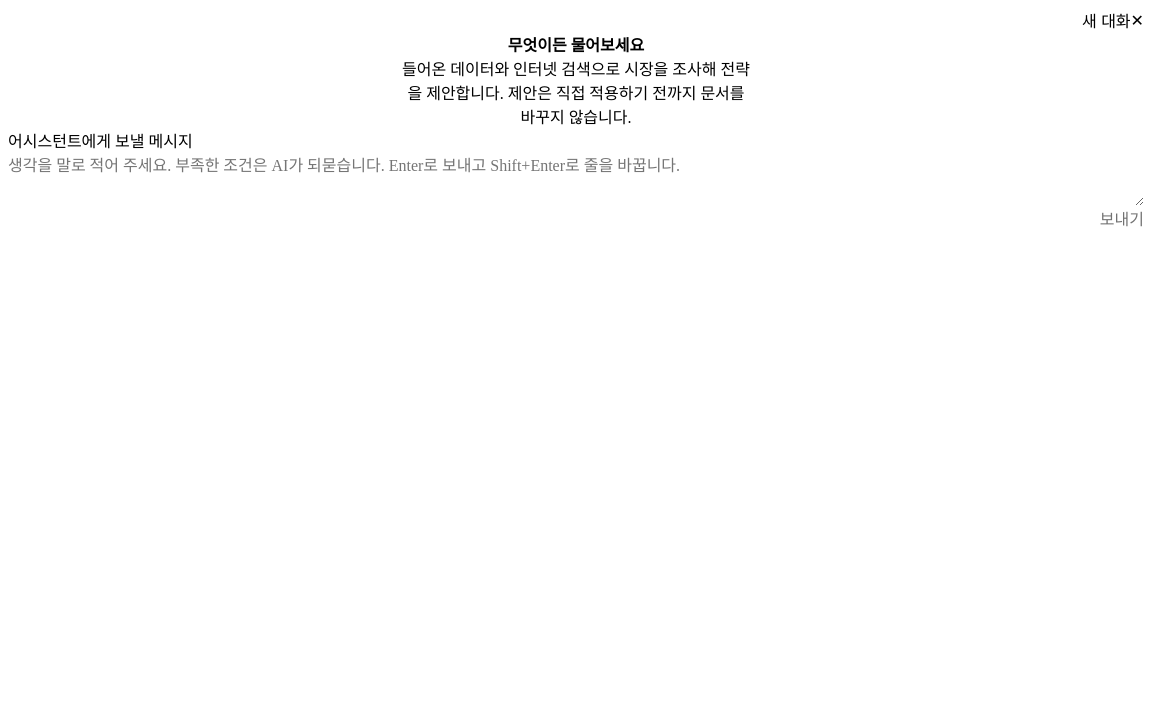
Test: AssistStrategySidebar › Escape로 확인을 물리면 초점이 닫기 버튼으로 돌아온다
Type "지금 시장에 맞는 전략을 제안해 줘" into the text box labelled "어시스턴트에게 보낼 메시지" at (576, 179), box [8, 152, 1144, 206]
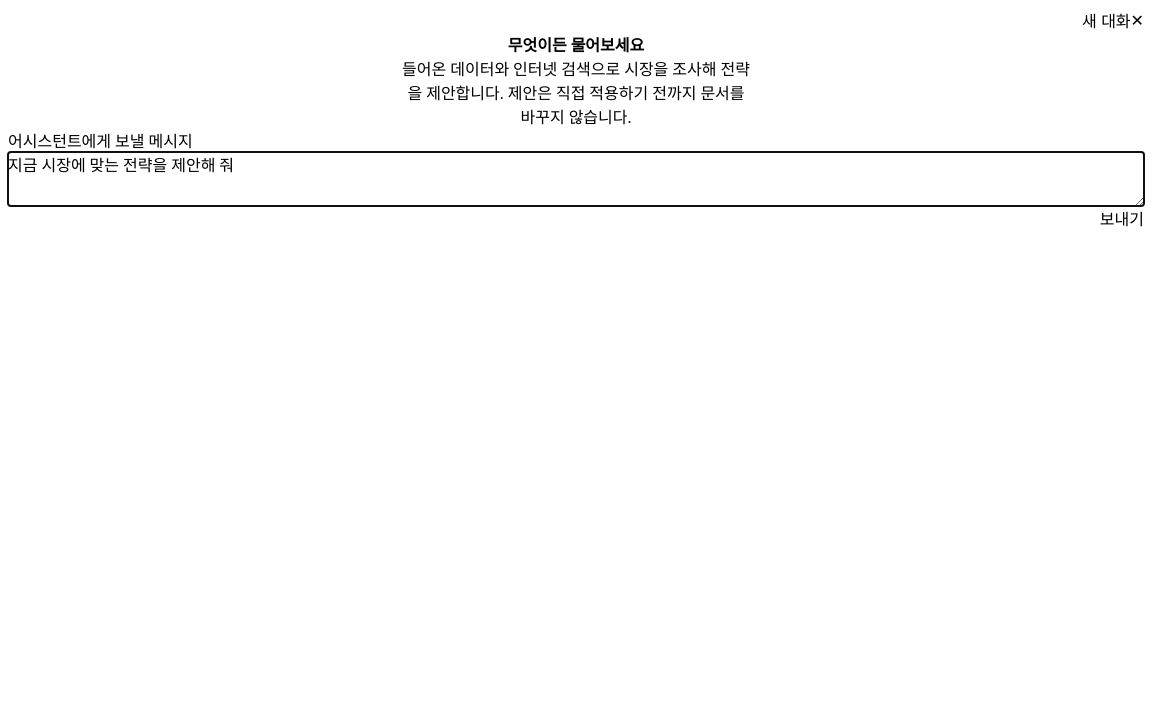
Press Enter
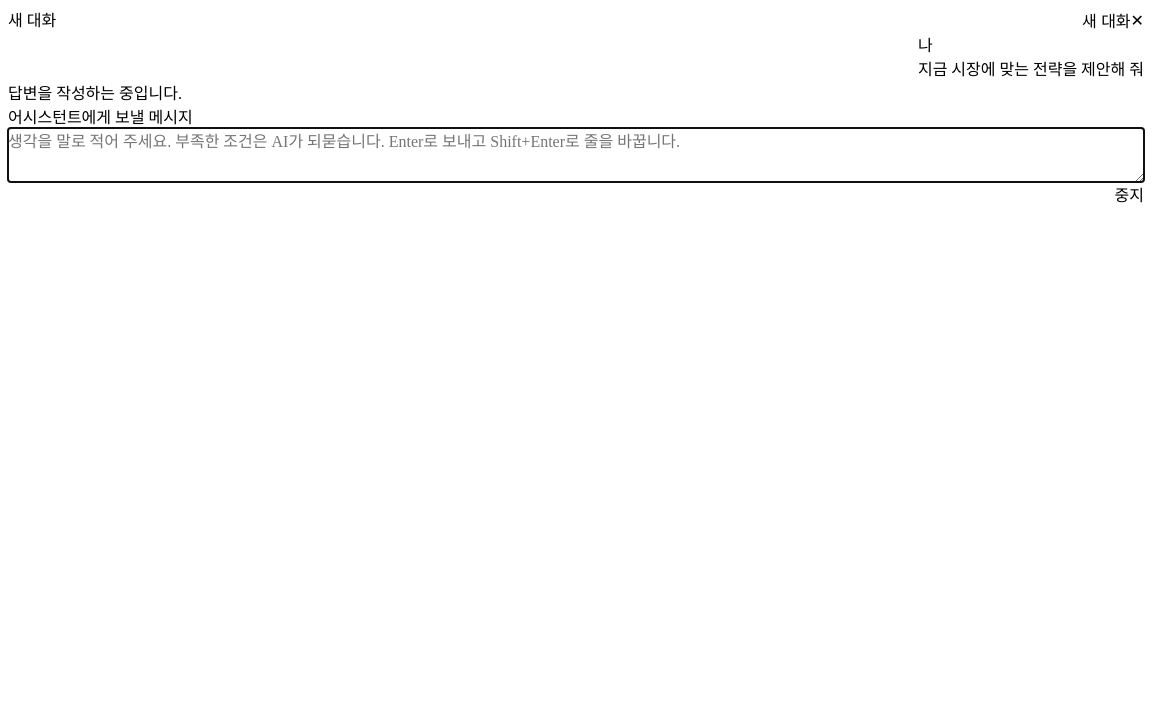
Click the button named "사이드바 닫기" at (1137, 20), box [1131, 10, 1144, 30]
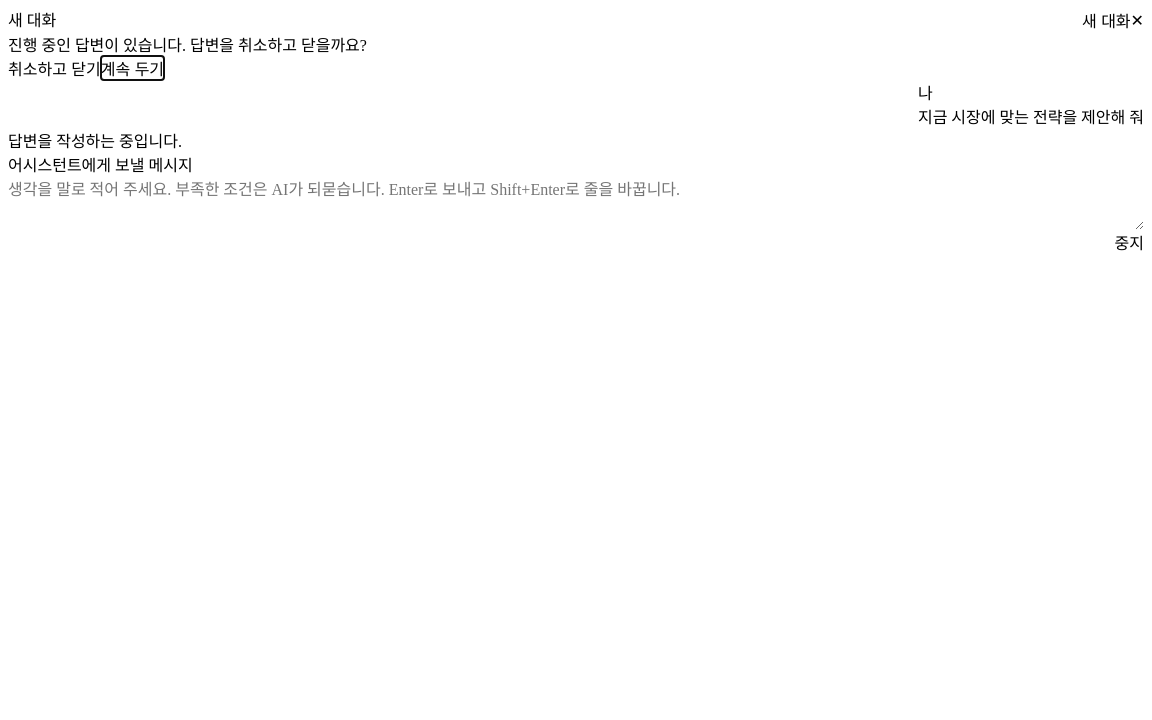
Check: the dialog is shown, box [8, 37, 367, 80]
Press Escape
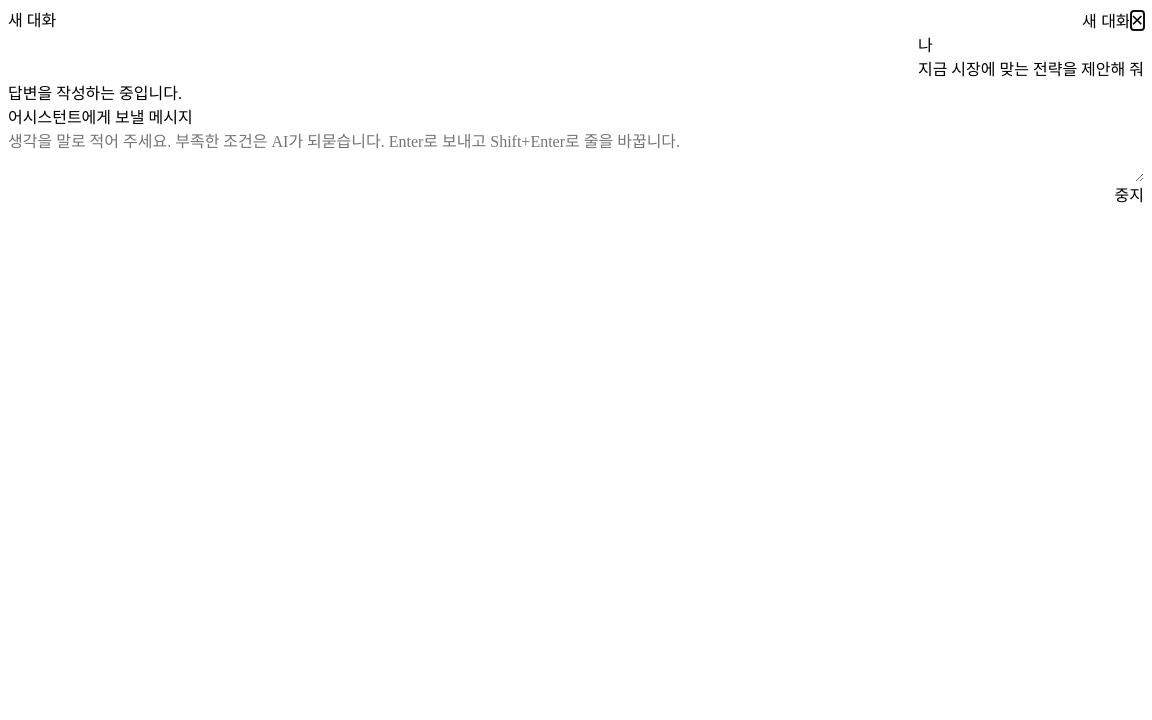
Check: the dialog is gone
